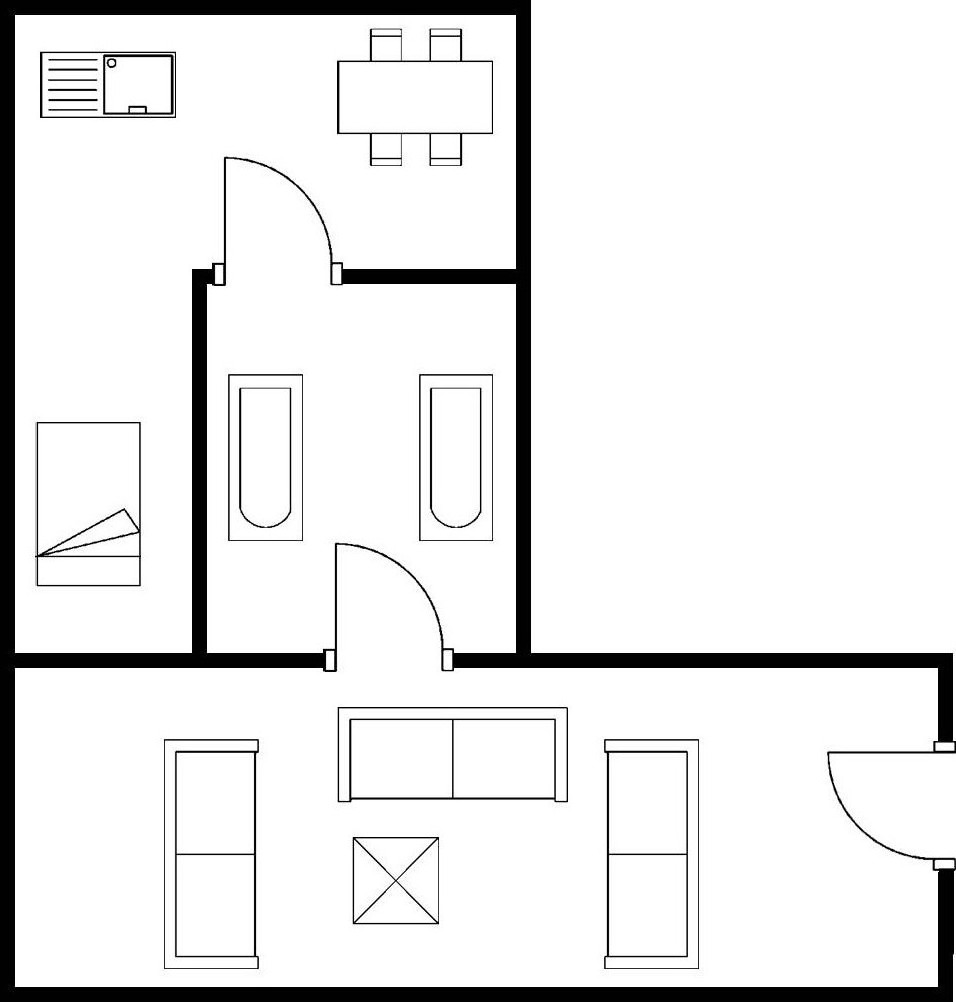bed: (32, 417, 147, 594)
coffee_table: (349, 833, 445, 932)
dining_table: (329, 21, 501, 173)
large_sofa: (596, 733, 706, 977), (332, 701, 575, 810), (156, 730, 264, 974)
sink: (37, 47, 181, 122)
tub: (412, 368, 500, 551), (223, 369, 310, 547)
